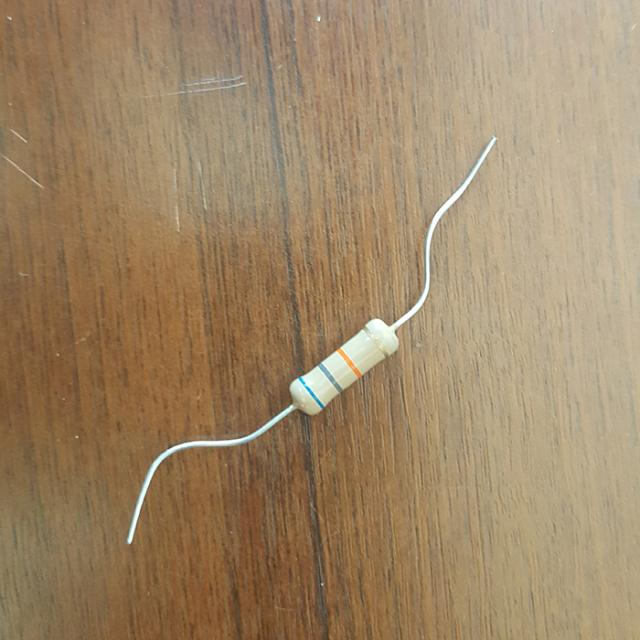blue: (297, 378, 323, 409)
gold: (363, 327, 387, 357)
grey: (317, 362, 341, 392)
orange: (337, 347, 362, 377)
resistor: (270, 297, 421, 438)
